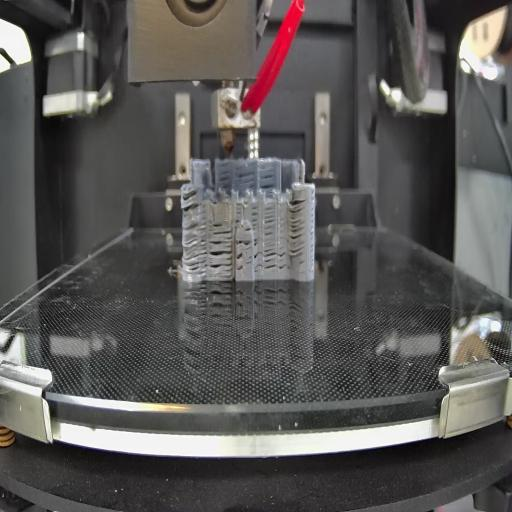cracks: (183, 222, 207, 274), (288, 197, 306, 266), (210, 239, 232, 276), (263, 206, 276, 239), (182, 192, 201, 212), (238, 169, 256, 189), (263, 248, 277, 272), (212, 223, 234, 236), (260, 172, 276, 188), (219, 169, 231, 189), (254, 238, 260, 271), (277, 248, 286, 270), (251, 206, 260, 227), (234, 237, 252, 247), (234, 204, 242, 226), (236, 252, 243, 272), (244, 225, 253, 233)
